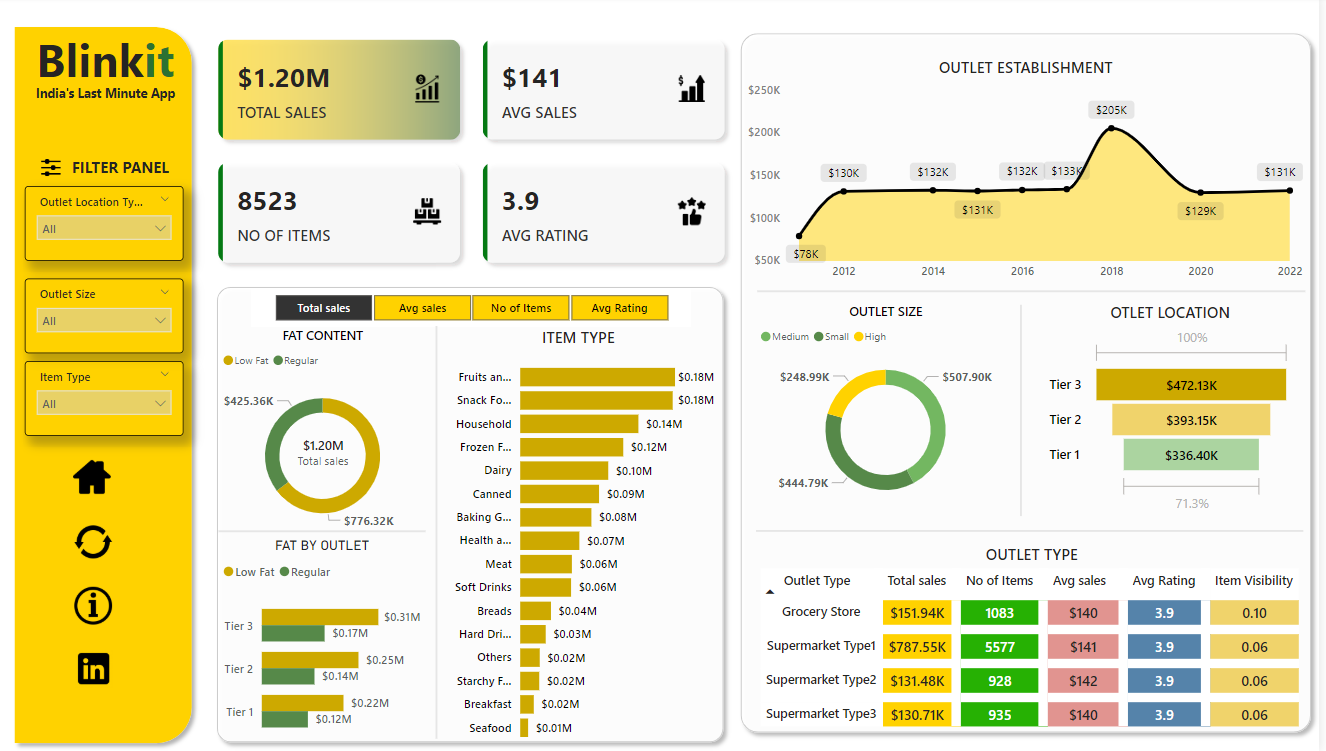

The page's visual inventory and layout, read from the dashboard file:
{"tool":"powerbi","page":{"name":"Blinkit","canvas":[1400,800],"ordinal":0},"visuals":[{"type":"shape","box":[10.5,24,205.6,775.9],"z":0},{"type":"textbox","box":[31.5,28.5,168.1,75],"z":1000},{"type":"textbox","box":[31.5,88.6,168.1,28.5],"z":2000},{"type":"cardVisual","fields":{"Data":["BlinkIT Grocery Data.Total sales","BlinkIT Grocery Data.Avg sales","BlinkIT Grocery Data.No of Items","BlinkIT Grocery Data.Avg Rating"]},"box":[217.6,28.5,570.3,270.2],"z":3000},{"type":"shape","box":[225.1,298.7,553.8,499.8],"z":4000},{"type":"slicer","fields":{"Values":["Metrics.Metrics"]},"box":[270.2,309.2,465.3,40.5],"z":5000},{"type":"donutChart","title":"FAT CONTENT","fields":{"Y":["BlinkIT Grocery Data.Total sales"],"Category":["BlinkIT Grocery Data.Item Fat Content"]},"box":[235.6,349.7,220.6,229.6],"z":6000},{"type":"clusteredBarChart","title":"FAT BY OUTLET","fields":{"Y":["BlinkIT Grocery Data.Total sales"],"Category":["BlinkIT Grocery Data.Outlet Location Type"],"Series":["BlinkIT Grocery Data.Item Fat Content"]},"box":[235.6,573.3,219.1,226.6],"z":7000},{"type":"shape","box":[235.6,552.3,219.1,27],"z":8000},{"type":"shape","box":[456.3,349.7,19.5,436.8],"z":9000},{"type":"barChart","title":"ITEM TYPE","fields":{"Y":["BlinkIT Grocery Data.Total sales"],"Category":["BlinkIT Grocery Data.Item Type"]},"box":[466.8,349.7,298.7,450.3],"z":10000},{"type":"cardVisual","fields":{"Data":["BlinkIT Grocery Data.Total sales"]},"box":[271.7,429.2,150.1,106.6],"z":11000},{"type":"shape","box":[778.9,30,621.4,757.9],"z":12000},{"type":"lineChart","title":"OUTLET ESTABLISHMENT","fields":{"Category":["BlinkIT Grocery Data.Outlet Establishment Year"],"Y":["BlinkIT Grocery Data.Total sales"]},"box":[791,63,597.3,246.1],"z":13000},{"type":"shape","box":[805,298.7,580,27],"z":14000},{"type":"donutChart","title":"OUTLET SIZE","fields":{"Y":["BlinkIT Grocery Data.Total sales"],"Category":["BlinkIT Grocery Data.Outlet Size"]},"box":[804.5,324.2,274.7,225.1],"z":15000},{"type":"shape","box":[1079.1,327.2,10.5,223.6],"z":16000},{"type":"shape","box":[804.5,555.3,579.3,21],"z":17000},{"type":"funnel","title":"OTLET LOCATION","fields":{"Category":["BlinkIT Grocery Data.Outlet Location Type"],"Y":["BlinkIT Grocery Data.Total sales"]},"box":[1109.1,322.7,265.7,229.6],"z":18000},{"type":"pivotTable","title":"OUTLET TYPE","fields":{"Rows":["BlinkIT Grocery Data.Outlet Type"],"Values":["BlinkIT Grocery Data.Total sales","BlinkIT Grocery Data.No of Items","BlinkIT Grocery Data.Avg sales","BlinkIT Grocery Data.Avg Rating","Avg(BlinkIT Grocery Data.Item Visibility)"]},"box":[804.5,579.3,583.8,207.1],"z":19000},{"type":"slicer","fields":{"Values":["BlinkIT Grocery Data.Outlet Location Type"]},"box":[30,201.1,168.1,79.5],"z":20000},{"type":"slicer","fields":{"Values":["BlinkIT Grocery Data.Outlet Size"]},"box":[30,298.7,168.1,79.5],"z":21000},{"type":"slicer","fields":{"Values":["BlinkIT Grocery Data.Item Type"]},"box":[30,385.7,168.1,79.5],"z":22000},{"type":"textbox","box":[76,165,139.6,36],"z":23000},{"type":"image","box":[76.5,484.8,50,50],"z":24000},{"type":"image","box":[77.6,552.4,50,50],"z":25000},{"type":"image","box":[77.6,620.9,50,50],"z":26000},{"type":"image","box":[39.6,164.3,36.5,35],"z":27000},{"type":"image","box":[77.6,686.3,50.2,50.2],"z":28000}]}

Visuals, with their boxes in screenshot pixels (x1, y1, x2, y2), scaled from the page's 1400x800 canvas onto the 1326x751 screenshot:
shape: [10,23,205,750]
textbox: [30,27,189,97]
textbox: [30,83,189,110]
cardVisual - BlinkIT Grocery Data.Total sales x BlinkIT Grocery Data.Avg sales: [206,27,746,280]
shape: [213,280,738,750]
slicer - Metrics.Metrics: [256,290,697,328]
"FAT CONTENT" donutChart: [223,328,432,544]
"FAT BY OUTLET" clusteredBarChart: [223,538,431,750]
shape: [223,518,431,544]
shape: [432,328,451,738]
"ITEM TYPE" barChart: [442,328,725,750]
cardVisual - BlinkIT Grocery Data.Total sales: [257,403,400,503]
shape: [738,28,1325,740]
"OUTLET ESTABLISHMENT" lineChart: [749,59,1315,290]
shape: [762,280,1312,306]
"OUTLET SIZE" donutChart: [762,304,1022,516]
shape: [1022,307,1032,517]
shape: [762,521,1311,541]
"OTLET LOCATION" funnel: [1050,303,1302,518]
"OUTLET TYPE" pivotTable: [762,544,1315,738]
slicer - BlinkIT Grocery Data.Outlet Location Type: [28,189,188,263]
slicer - BlinkIT Grocery Data.Outlet Size: [28,280,188,355]
slicer - BlinkIT Grocery Data.Item Type: [28,362,188,437]
textbox: [72,155,204,189]
image: [72,455,120,502]
image: [73,519,121,566]
image: [73,583,121,630]
image: [38,154,72,187]
image: [73,644,121,691]
